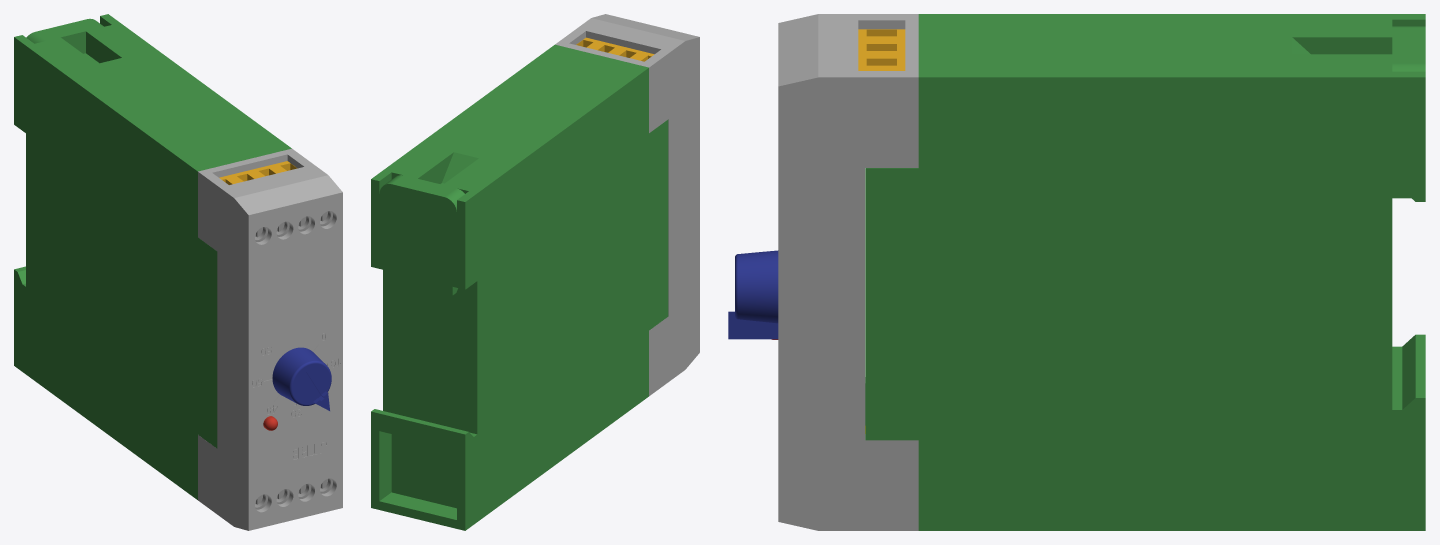
The model's file is RELE TEMPORIZADORPINTADO.fbx.
The picture shows the model from 3 angles, left to right: view 1: azimuth 30°, elevation 25°; view 2: azimuth 150°, elevation 25°; view 3: azimuth 270°, elevation 25°; orthographic projection. The views are drawn at different scales.
Visible parts, largest first — view 1: Body2, Body1, Body23, Body24, Body3, Body5; view 2: Body2, Body1, Body24, Body5; view 3: Body2, Body1, Body23, Body5, Body24.
Part boxes in pixels (x1=…): Body2: x1=14, y1=14, x2=291, y2=499; Body1: x1=198, y1=148, x2=342, y2=530; Body23: x1=272, y1=347, x2=331, y2=410; Body24: x1=26, y1=18, x2=103, y2=53; Body3: x1=255, y1=211, x2=332, y2=509; Body5: x1=219, y1=161, x2=297, y2=184; Body2: x1=371, y1=44, x2=668, y2=530; Body1: x1=555, y1=14, x2=699, y2=396; Body24: x1=379, y1=175, x2=464, y2=295; Body5: x1=576, y1=37, x2=654, y2=61; Body2: x1=865, y1=14, x2=1425, y2=530; Body1: x1=778, y1=14, x2=918, y2=530; Body23: x1=728, y1=250, x2=778, y2=339; Body5: x1=858, y1=29, x2=905, y2=70; Body24: x1=1392, y1=26, x2=1425, y2=201.
Bounding box in the file's own units: 22.5 × 75 × 104.
